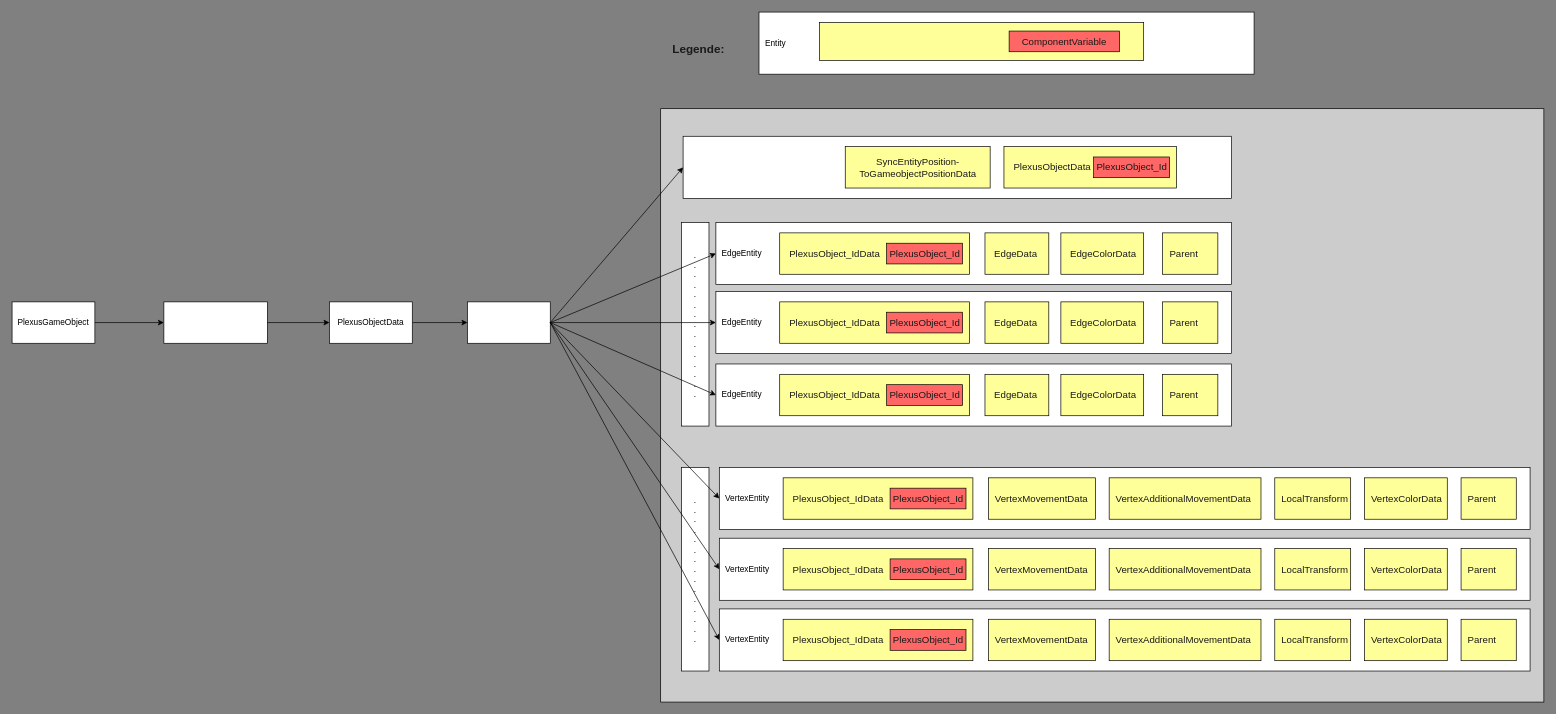
Some shapes in this 1556 by 714 pixel diagram are drawn without their labels. The shapes that lost their labels are listed below. From the top down, each one's box as (x1, y1, x2, y2) in pixels, then its label:
(819, 22, 1144, 60): ComponentData
(682, 136, 1232, 198): PlexusObjectEntity
(163, 301, 267, 343): PlexusGameObjectData
(467, 301, 550, 343): SpawnSystem
(660, 108, 1544, 702): Actual Plexus GameObject Data
